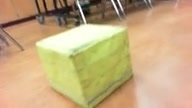cube: (35, 24, 134, 108)
